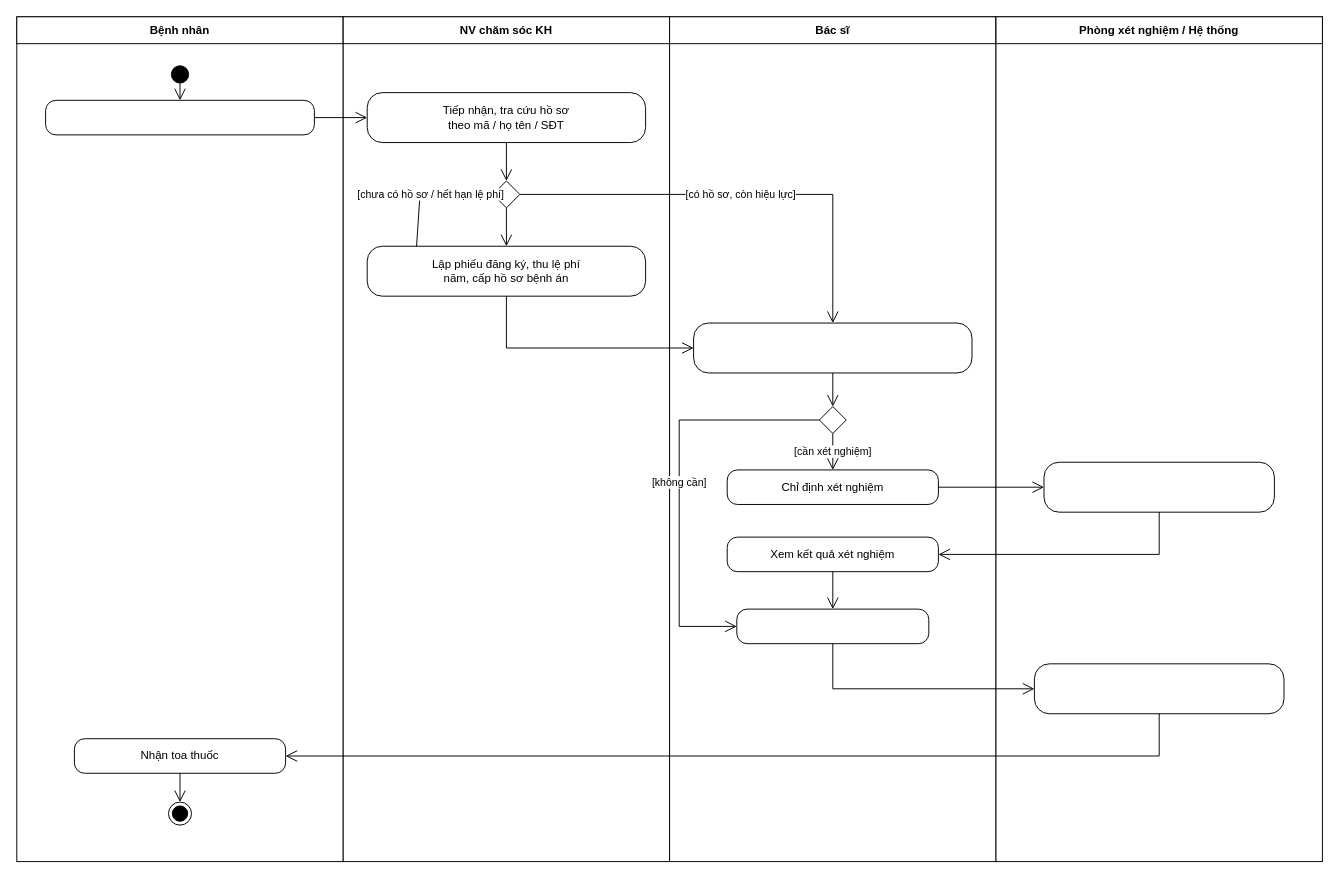
Some shapes in this 1339 by 878 pixel diagram are drawn without their labels. The shapes that lost their labels are listed below. From the top down, each one's box as (x1, y1, x2, y2) in pixels, then its label:
(45, 99, 314, 135): Đến đăng ký khám bệnh
(693, 322, 972, 373): Xem lịch sử bệnh án, lập phiếu khám, ghi triệu chứng
(1043, 461, 1274, 512): Thực hiện xét nghiệm, ghi kết quả
(736, 608, 929, 644): Lập toa thuốc
(1033, 663, 1284, 714): Lưu toa thuốc và chi tiết (một transaction)
